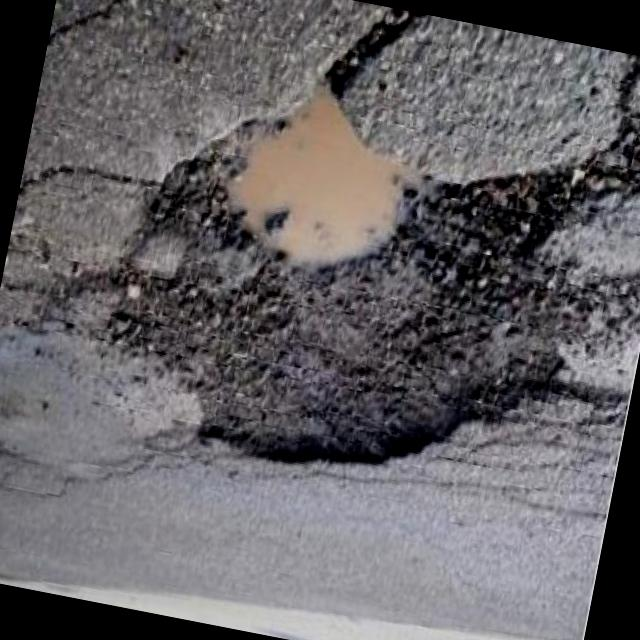pothole: (78, 41, 621, 526)
